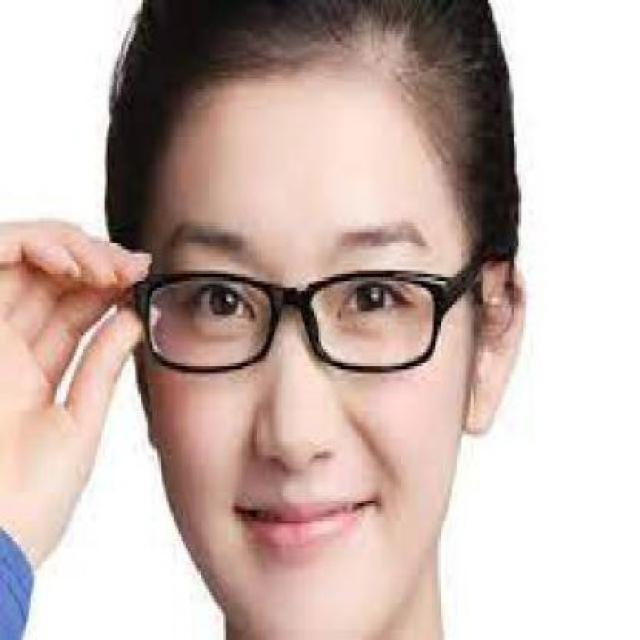Glasses: (132, 268, 483, 375)
